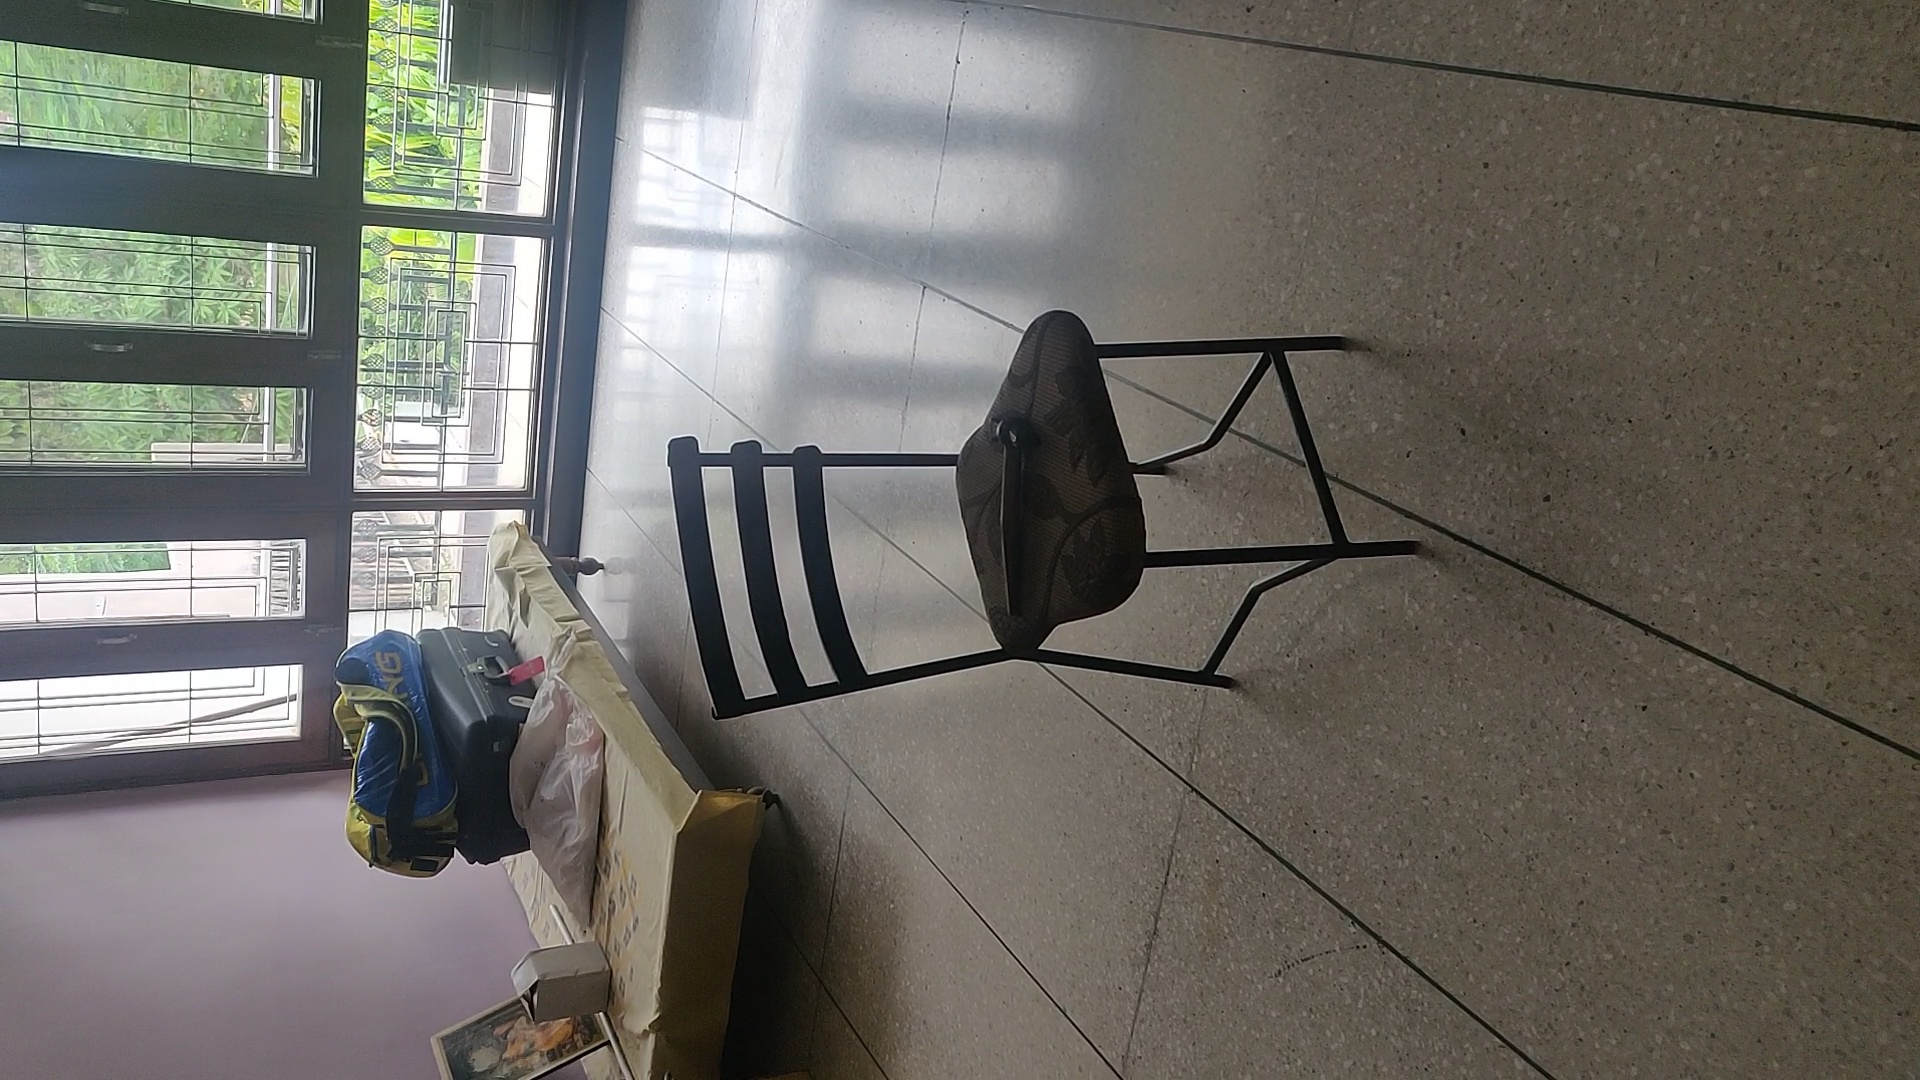hammer: (984, 410, 1044, 616)
